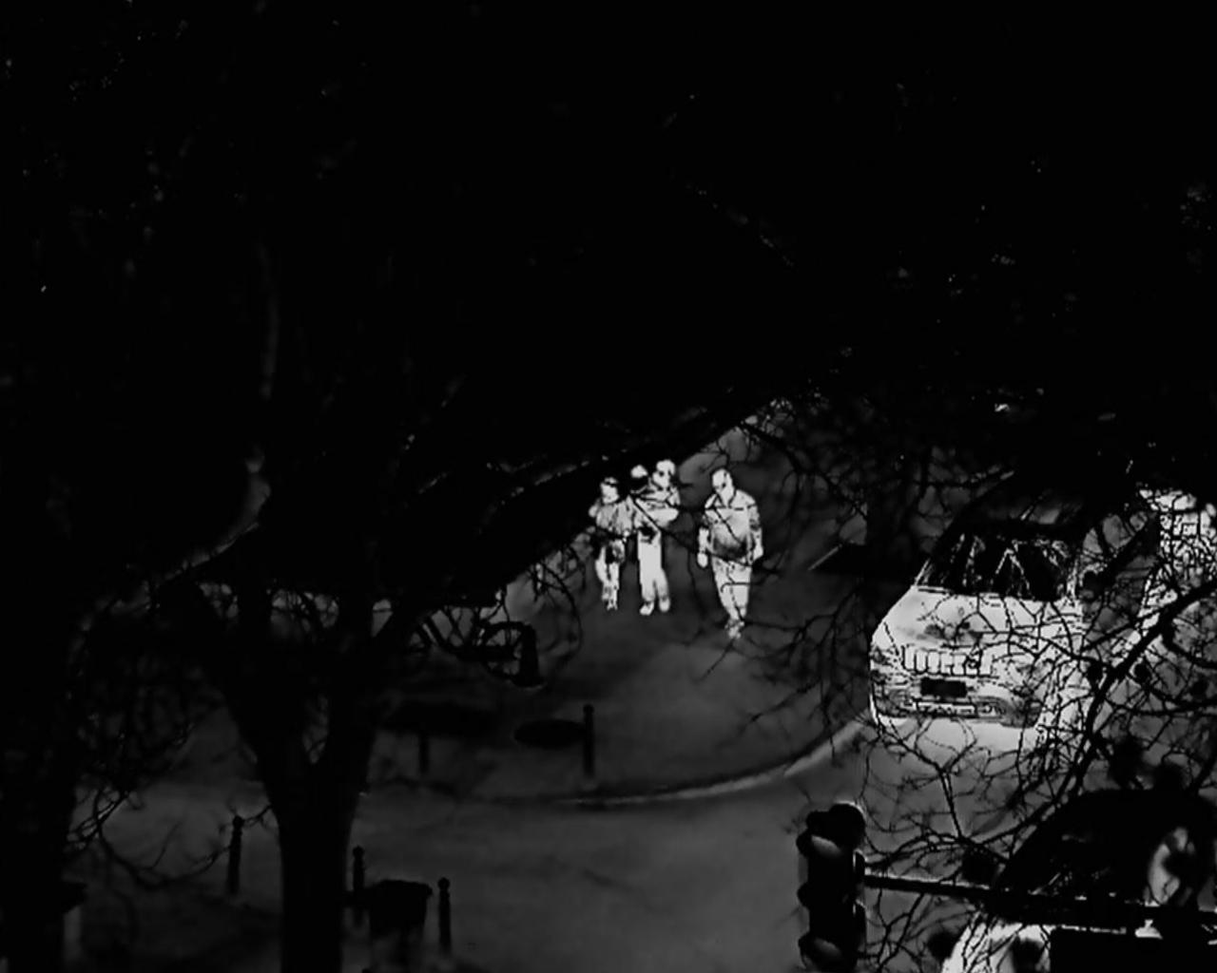person: (695, 469, 762, 640), (628, 459, 680, 617), (585, 477, 630, 609)
